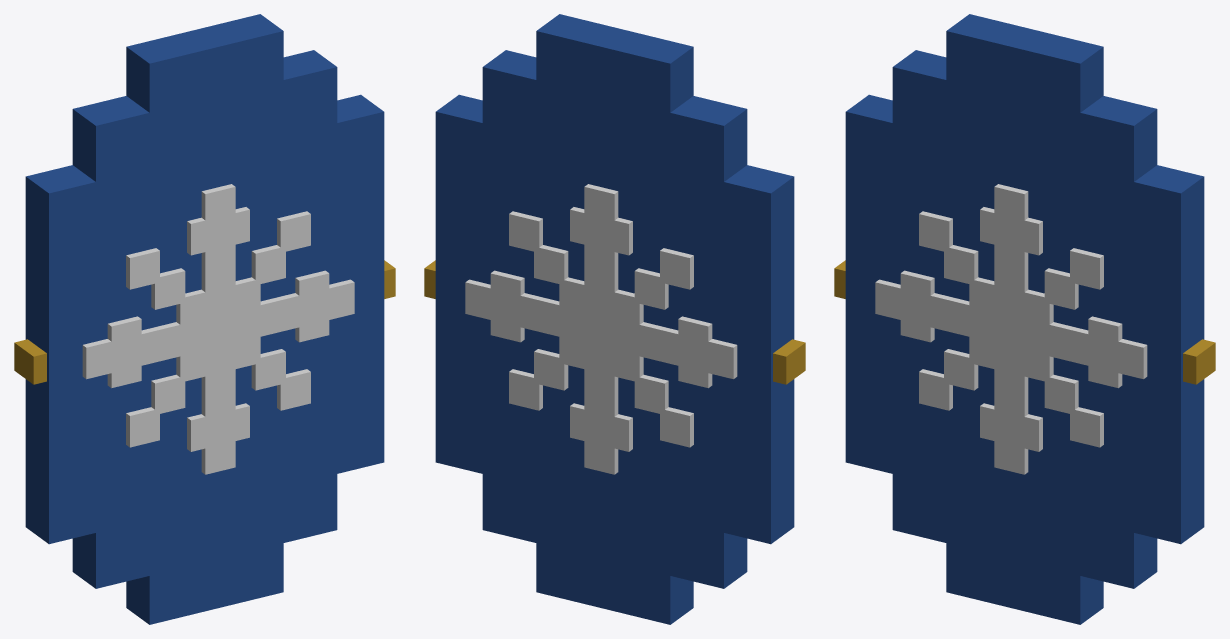
The model's file is ntu-snowflake-shield.glb.
3 renders of one model, left to right at view 1: azimuth 30°, elevation 25°; view 2: azimuth 150°, elevation 25°; view 3: azimuth 330°, elevation 25°, orthographic.
Parts seen in each view (by area): view 1: box-prop; view 2: box-prop; view 3: box-prop.
Boxes of the visible parts, x1,y1,x2,y2 form: box-prop: [14, 14, 395, 624]; box-prop: [424, 14, 805, 624]; box-prop: [834, 14, 1215, 624].
Size of the model in its own units: 1.08 by 1.6 by 0.16.
